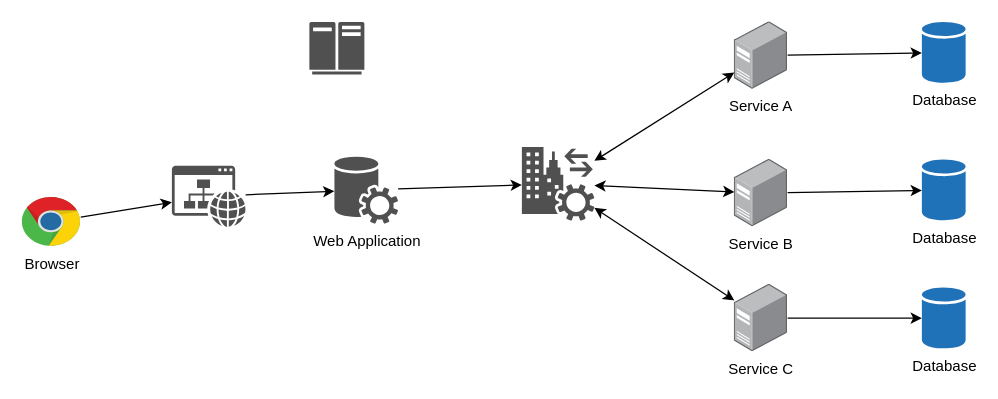
This 998x399 diagram has some shape labels left out. Here are the shapes that lost their labels. From the top down, the centre of each, then its label:
point 336,47: Backend
point 208,195: Proxy
point 557,183: Internal Gateway
